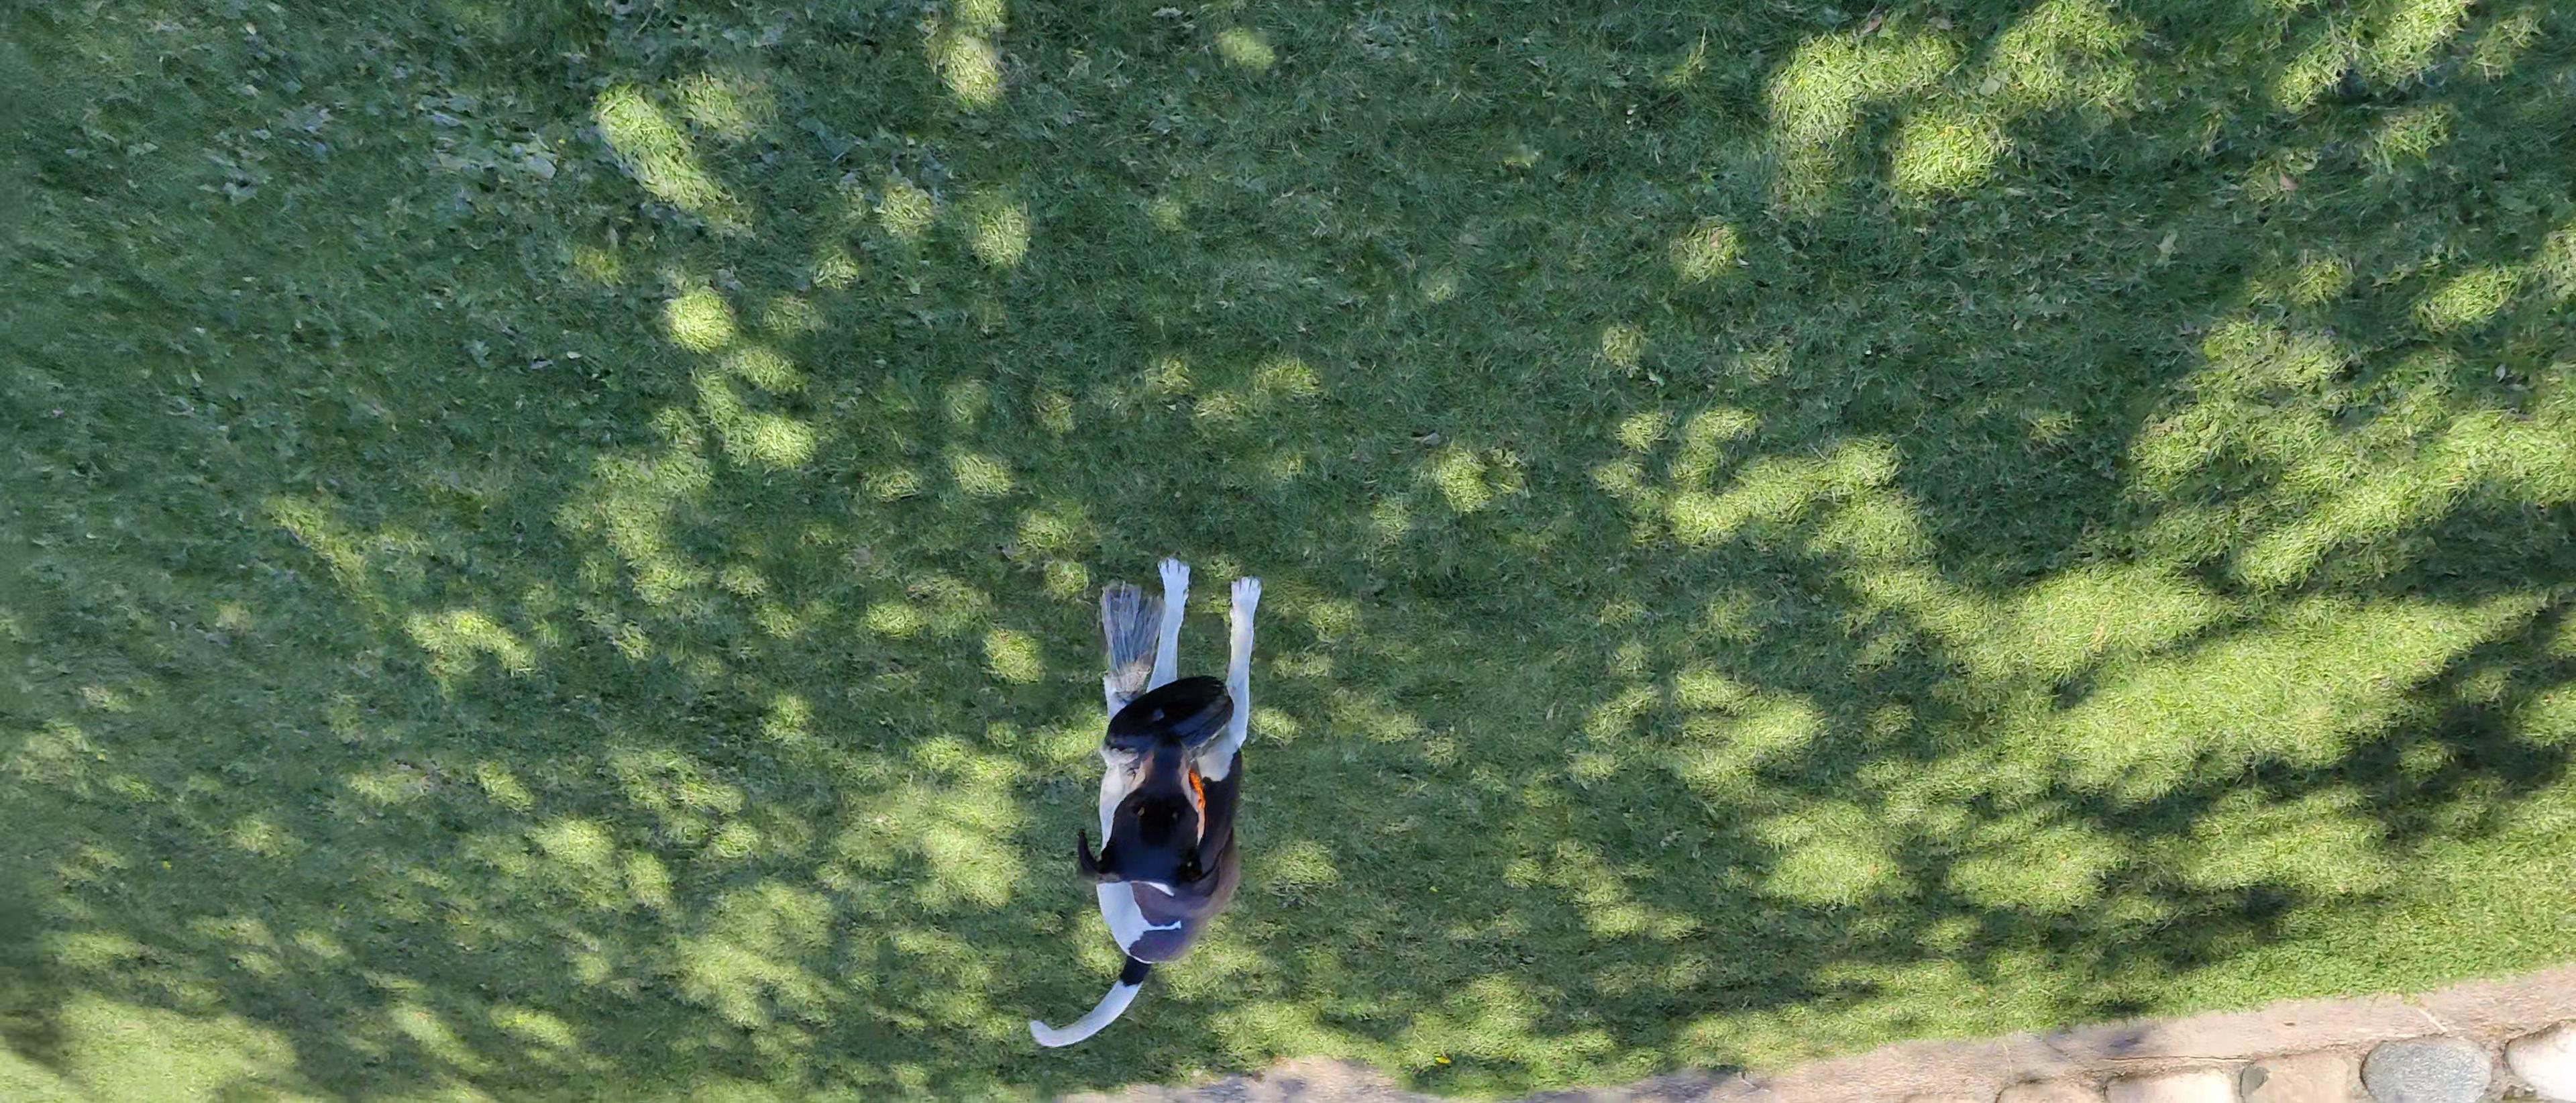Dog: (1023, 552, 1267, 1052)
